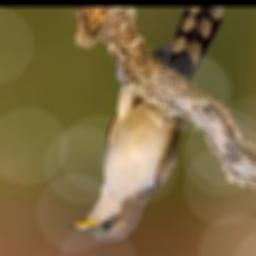Cuckoo: (68, 8, 225, 241)
